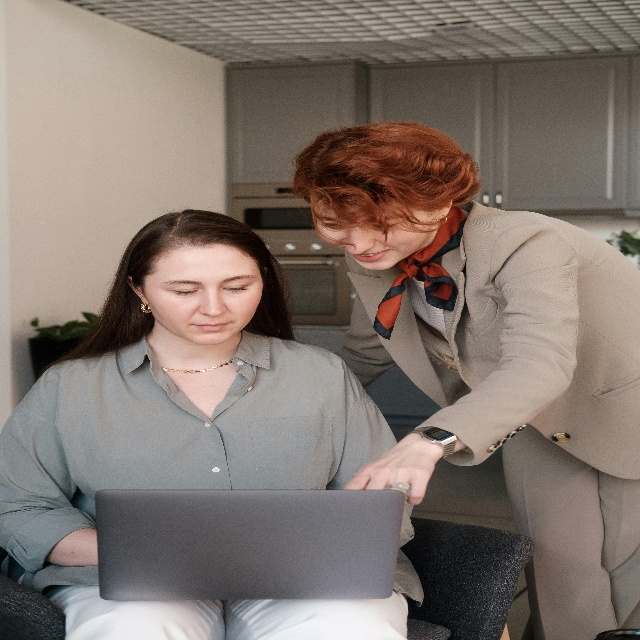Sin_guantes: (339, 431, 441, 502)
